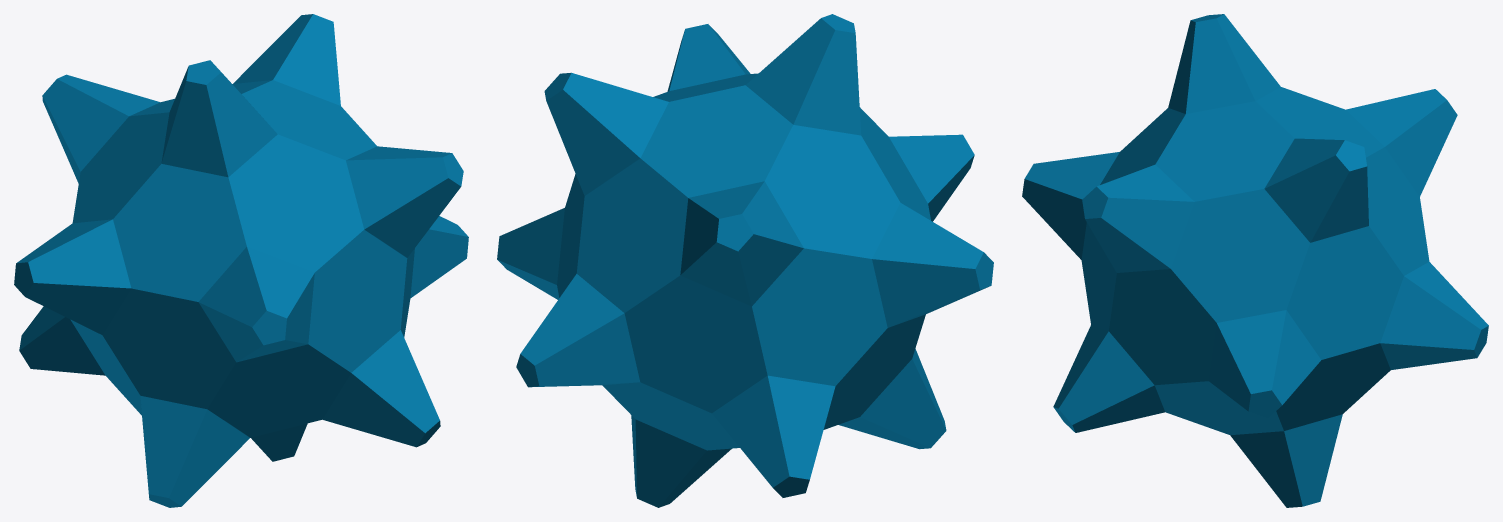
File: spikyBall.fbx
The picture shows the model from 3 angles, left to right: view 1: azimuth 30°, elevation 25°; view 2: azimuth 150°, elevation 25°; view 3: azimuth 270°, elevation 25°; orthographic projection. The views are drawn at different scales.
Visible parts, largest first — view 1: spikyBall; view 2: spikyBall; view 3: spikyBall.
Part boxes in pixels (x1,y1,x2,y2): spikyBall: (14,14,468,507); spikyBall: (497,14,993,507); spikyBall: (1022,14,1488,507).
Bounding box in the file's own units: 2.82 × 2.74 × 2.65.
